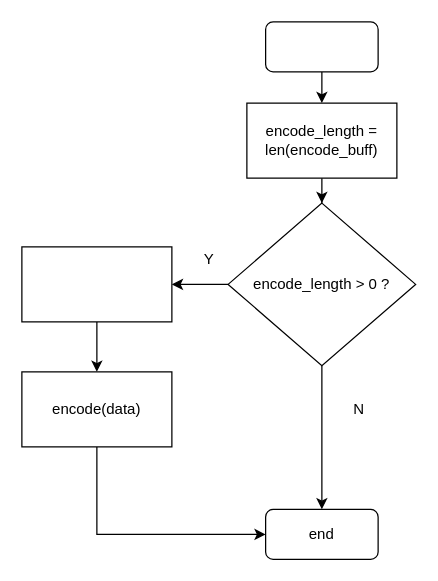
Some shapes in this 438 by 581 pixel diagram are drawn without their labels. The centre of each missing label's shape, as x and y in pixels:
"data = encode_buff.pop()" belongs at point 96,284.
"start" belongs at point 321,46.
